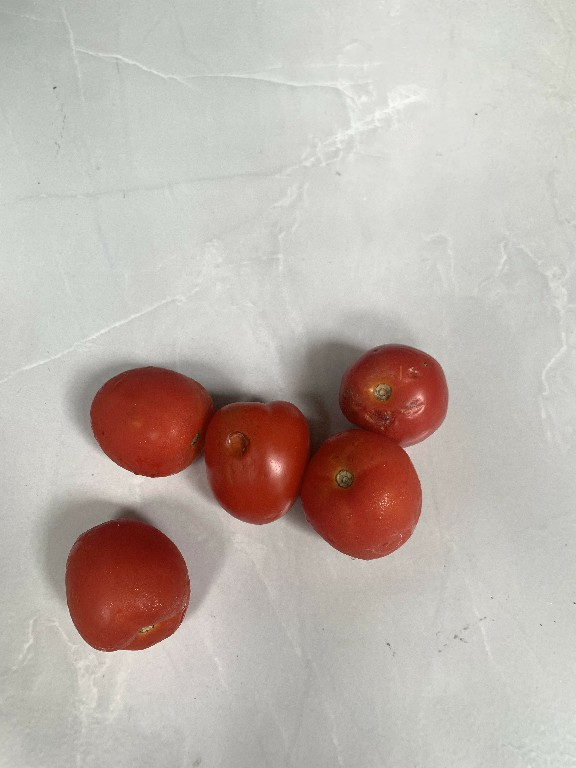NG: (205, 376, 309, 526), (332, 340, 458, 454)
OK: (62, 511, 198, 659), (77, 358, 221, 485), (302, 431, 427, 561)
